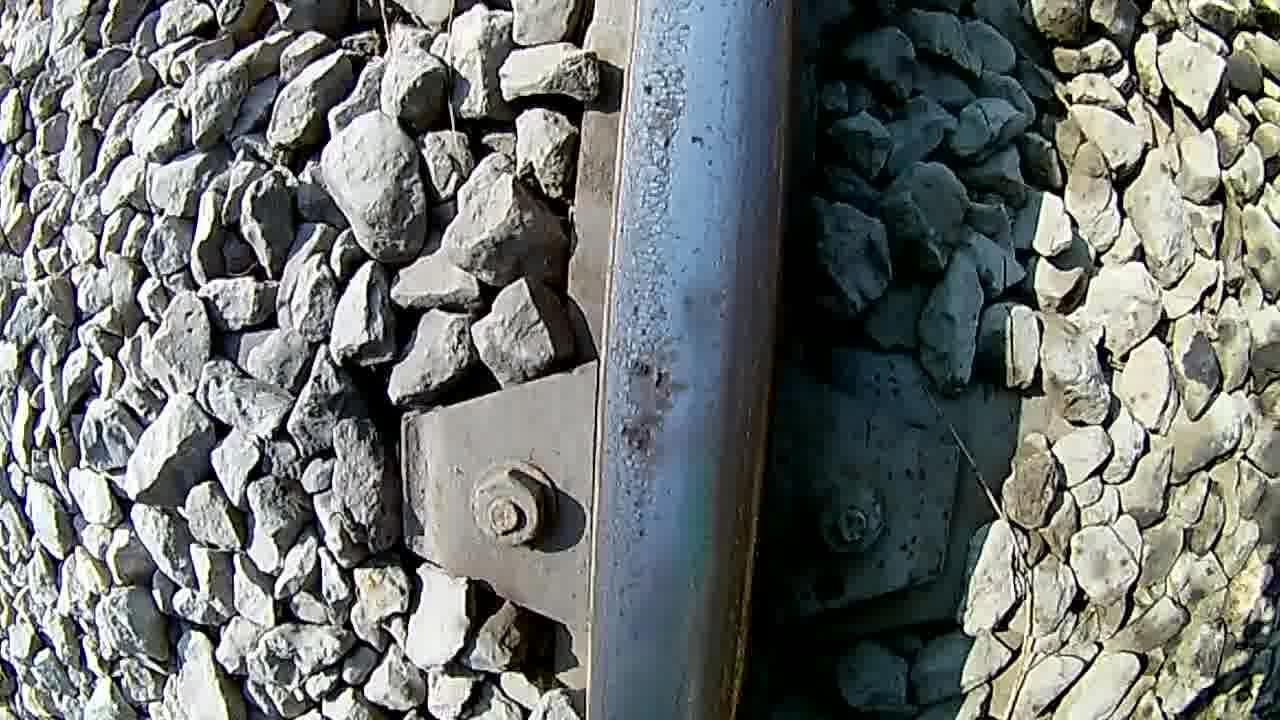crack: (617, 1, 776, 720)
